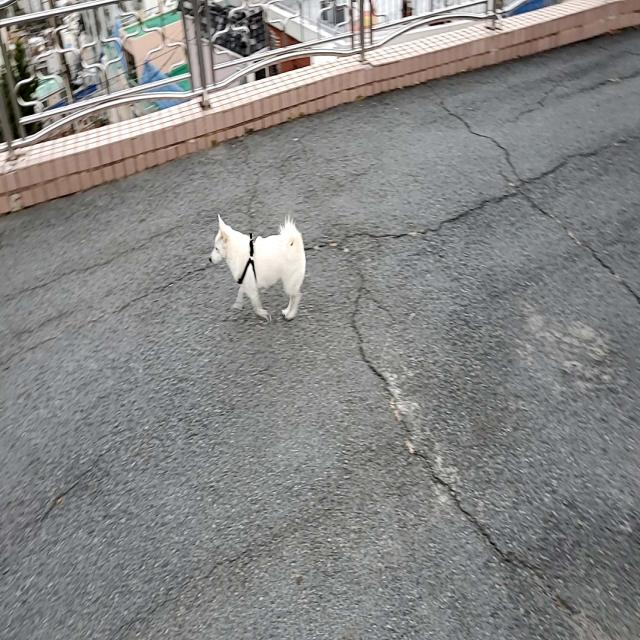Dog: (208, 213, 306, 323)
